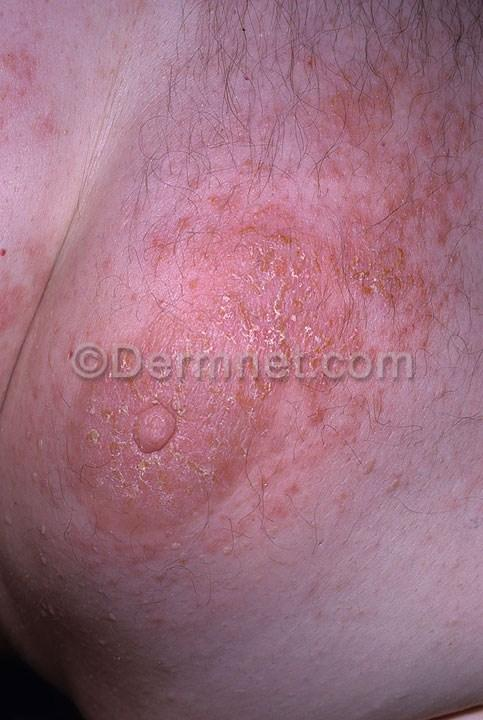Eczema: (298, 219, 409, 327), (186, 222, 296, 314), (38, 456, 138, 548), (279, 322, 376, 416), (289, 119, 386, 207), (180, 476, 273, 566), (96, 540, 184, 626), (389, 262, 472, 351), (388, 163, 458, 267), (104, 220, 189, 303), (197, 156, 292, 228), (313, 47, 409, 117), (0, 240, 66, 339), (264, 420, 338, 507), (133, 300, 255, 350), (176, 346, 254, 424), (0, 26, 66, 107), (419, 89, 483, 168), (227, 312, 294, 380), (194, 424, 257, 488), (357, 443, 417, 510), (31, 112, 89, 172), (103, 346, 166, 400), (77, 409, 132, 460)
